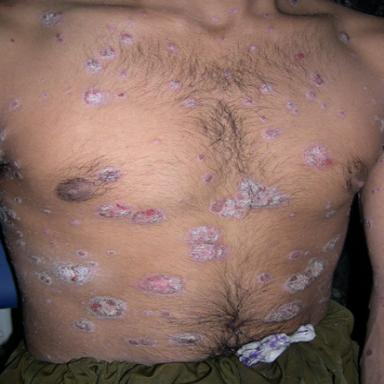Psoriasis: (209, 177, 291, 219), (185, 225, 228, 262), (284, 258, 327, 294), (96, 203, 165, 224), (135, 273, 185, 297), (54, 262, 96, 286), (264, 300, 303, 323), (87, 296, 126, 319), (84, 86, 126, 107), (303, 143, 331, 169), (168, 332, 204, 347), (97, 167, 123, 182), (40, 11, 63, 27), (322, 234, 340, 252), (126, 337, 157, 347), (73, 318, 95, 332), (262, 127, 282, 141), (85, 58, 102, 73), (142, 310, 173, 318), (100, 47, 116, 59), (286, 101, 299, 115), (37, 272, 51, 285), (257, 272, 273, 283), (312, 73, 324, 87), (183, 97, 197, 109), (120, 34, 134, 45), (9, 98, 21, 110), (261, 83, 273, 94), (305, 89, 317, 100), (289, 251, 303, 260), (75, 250, 89, 259), (202, 173, 213, 184), (54, 33, 65, 44), (243, 97, 254, 107), (167, 43, 178, 53), (169, 81, 180, 89), (120, 70, 128, 78), (106, 251, 118, 256), (260, 116, 267, 124), (320, 103, 328, 110), (196, 155, 205, 161), (337, 110, 346, 116)
